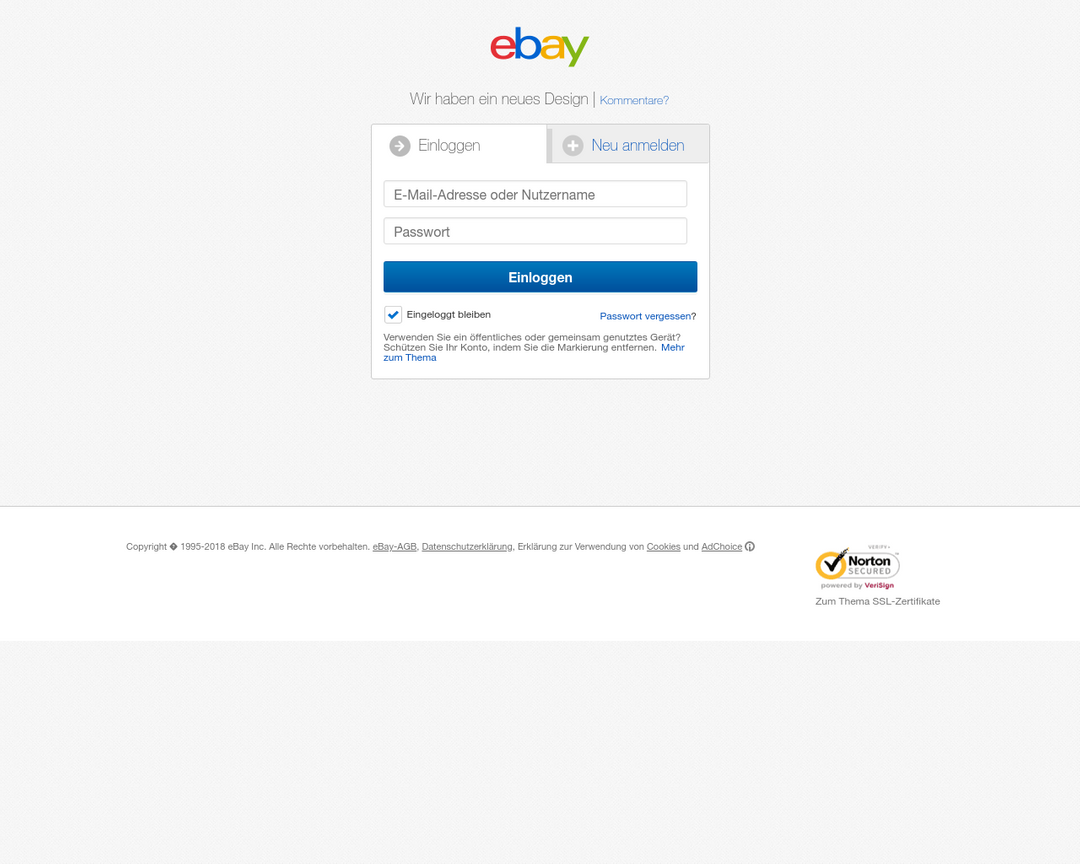Ebay: (487, 22, 596, 71)
